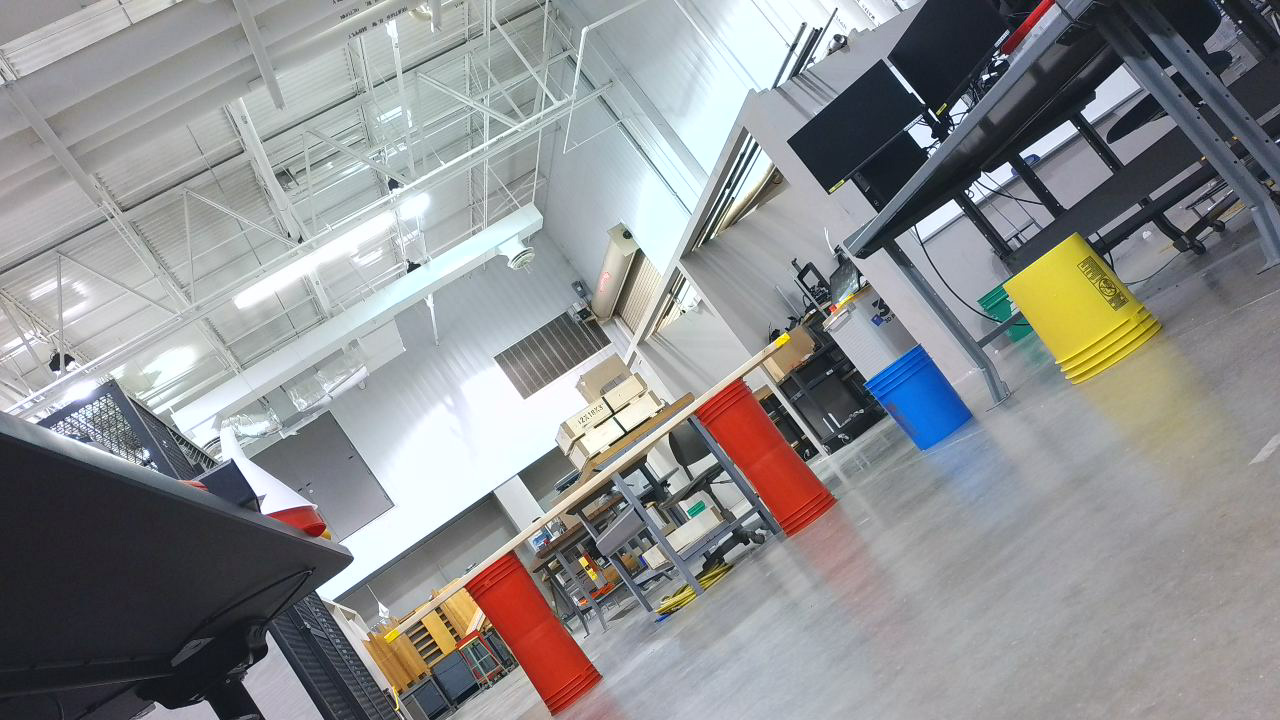blue_bucket: (863, 342, 983, 461)
red_bucket_arch: (459, 367, 848, 720)
yellow_bucket: (1002, 231, 1171, 399)
